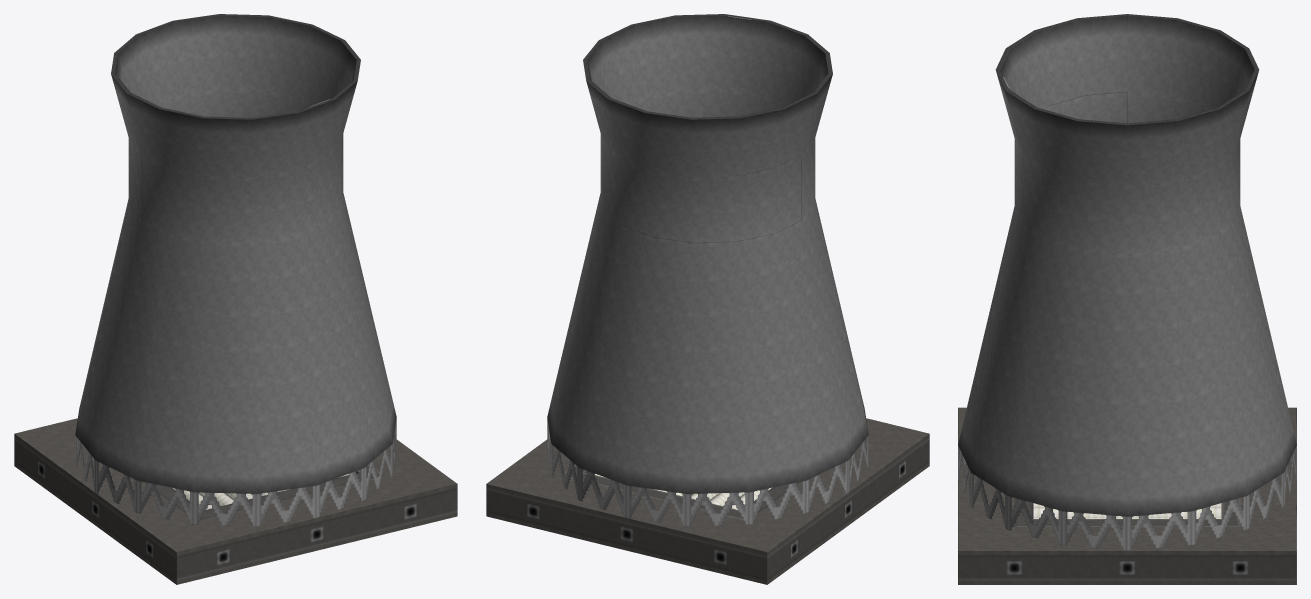
The model's file is tower_large.obj.
3 renders of one model, left to right at view 1: azimuth 30°, elevation 25°; view 2: azimuth 150°, elevation 25°; view 3: azimuth 270°, elevation 25°, orthographic. The views are drawn at different scales.
Parts seen in each view (by area): view 1: Cube_Cube.001; view 2: Cube_Cube.001; view 3: Cube_Cube.001.
Boxes of the visible parts, box(x1,y1,x2,y2) form: Cube_Cube.001: box(14, 14, 457, 584); Cube_Cube.001: box(486, 14, 929, 584); Cube_Cube.001: box(958, 14, 1296, 584).
Bounding box in the file's own units: 9 × 13 × 9.
